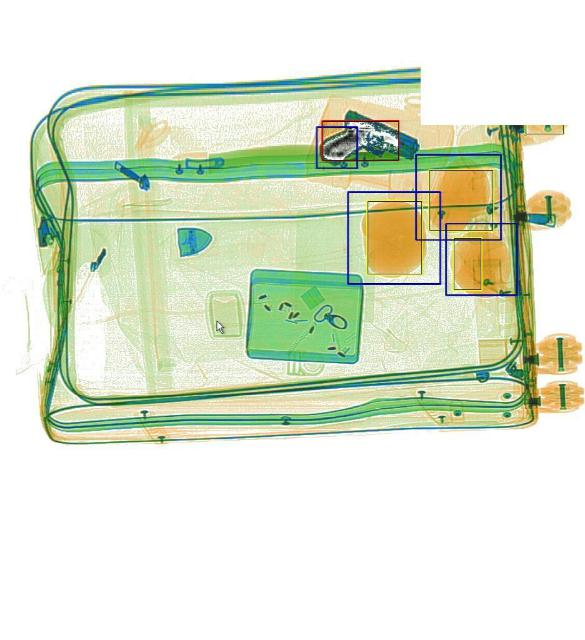Gun: (317, 106, 420, 184)
